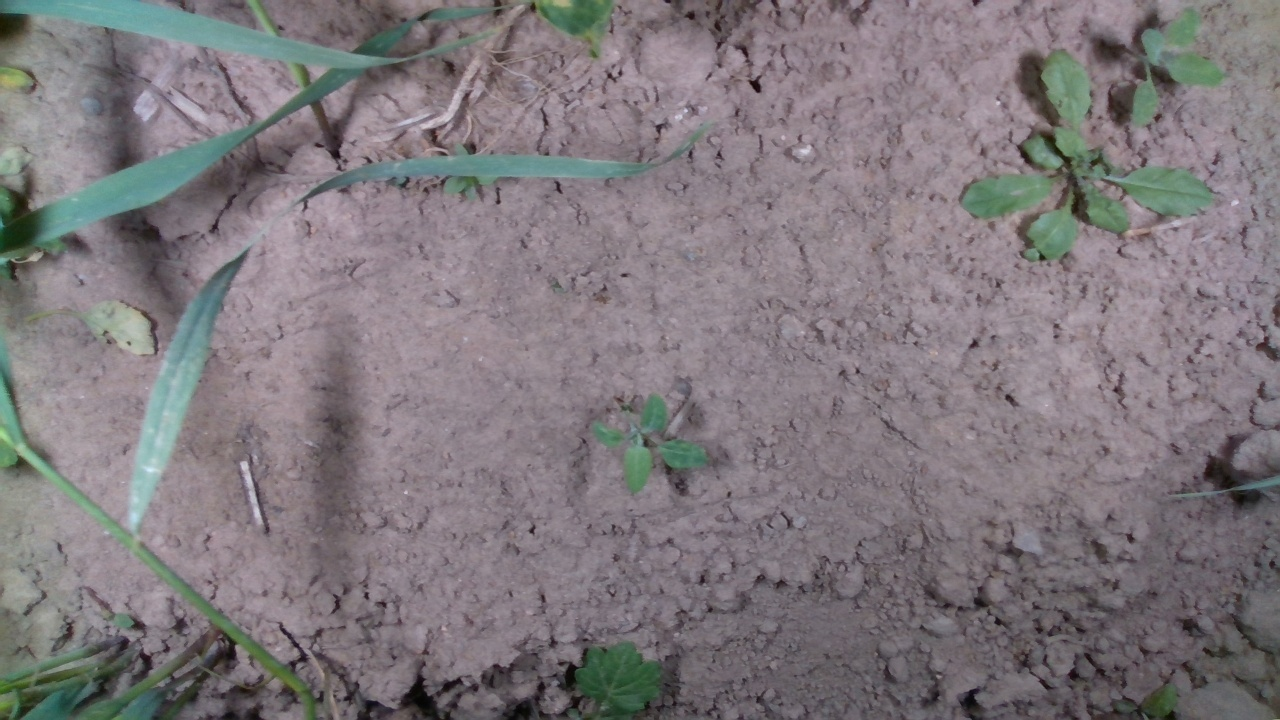weed: (589, 386, 706, 501)
